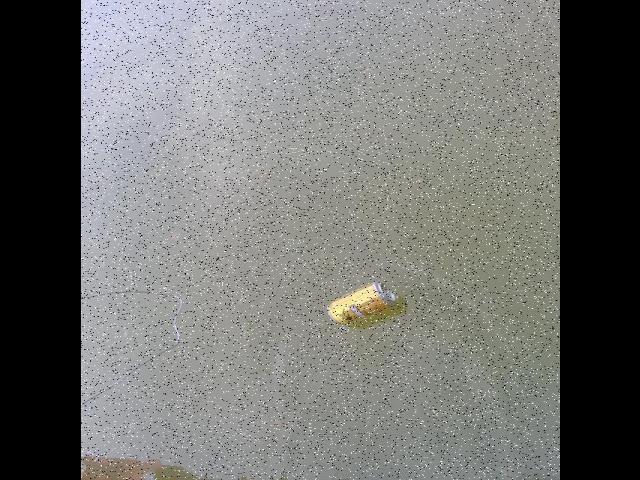Can: (328, 281, 396, 328)
